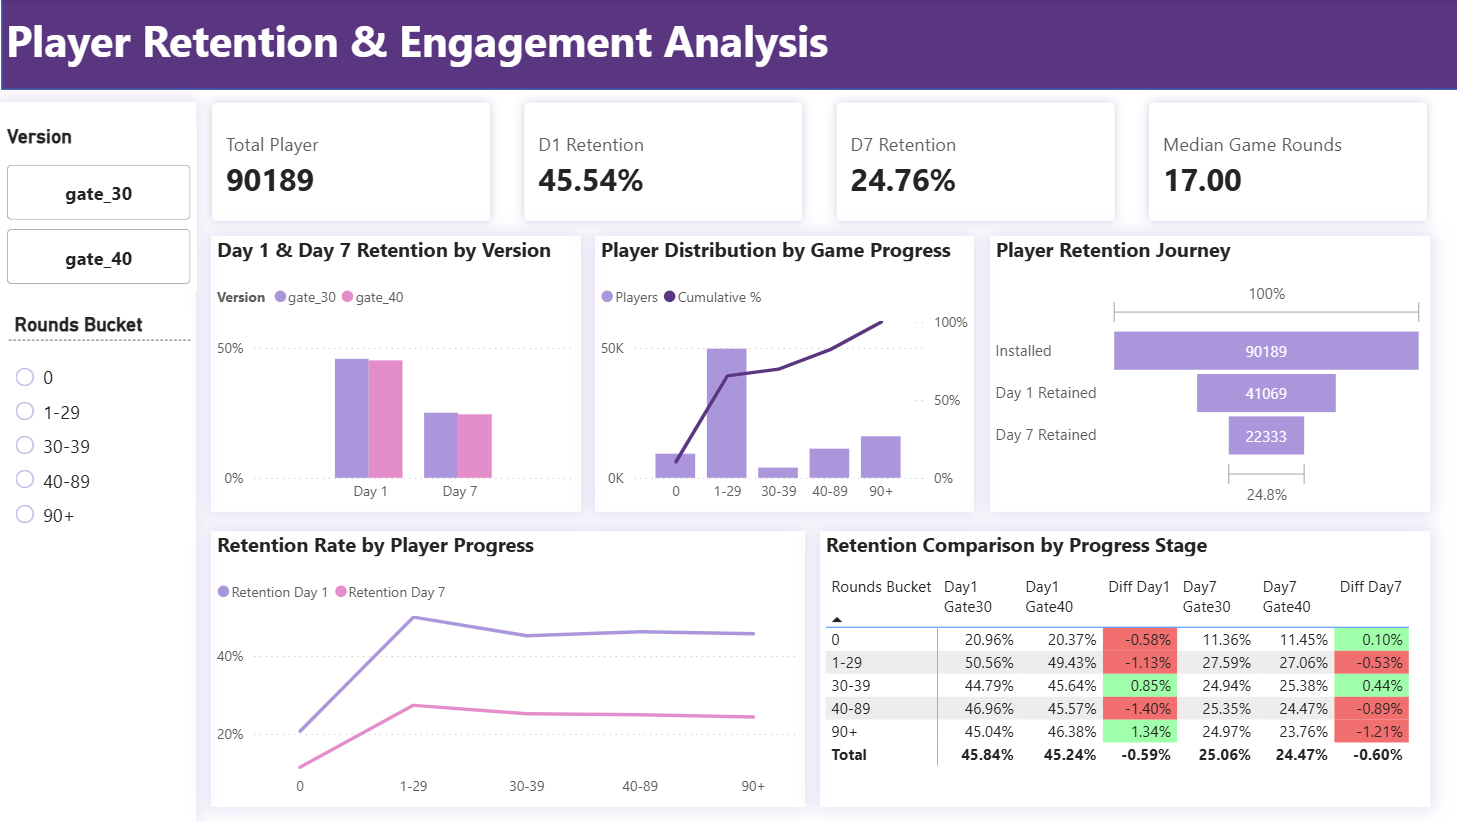

The dashboard page shown, as its layout file describes it:
{"tool":"powerbi","page":{"name":"Page 1","canvas":[1280,720],"ordinal":0},"visuals":[{"type":"shape","box":[9.6,0,1270.7,80],"z":0},{"type":"shape","box":[9.2,90.6,170.7,629],"z":1000},{"type":"textbox","box":[9.2,6.6,1271.1,65.7],"z":2000},{"type":"cardVisual","fields":{"Data":["CountNonNull(gaming_data.userid)","gaming_data.M_Retention Day 1","gaming_data.M_Retention Day 7","Median(gaming_data.sum_gamerounds)"]},"box":[165.9,63.5,1114.4,159.4],"z":3000},{"type":"clusteredColumnChart","title":"Day 1 & Day 7 Retention by Version","fields":{"Category":["Retention Metric.Metric"],"Y":["Retention Metric.Retention Rate"],"Series":["gaming_data.version"]},"box":[193.1,207.3,322.7,241],"z":4000},{"type":"advancedSlicerVisual","fields":{"Values":["gaming_data.version"]},"box":[10.1,109.6,170.1,144.9],"z":5000},{"type":"pivotTable","title":"Retention Comparison by Progress Stage","fields":{"Rows":["gaming_data.Rounds Bucket"],"Values":["gaming_data.Day1 Gate30","gaming_data.Day1 Gate40","gaming_data.Diff Day1","gaming_data.Day7 Gate30","gaming_data.Day7 Gate40","gaming_data.Diff Day7"]},"box":[723.1,463.9,531.3,241],"z":6000},{"type":"lineChart","title":"Retention Rate by Player Progress","fields":{"Category":["gaming_data.Rounds Bucket"],"Y":["gaming_data.M_Retention Day 1","gaming_data.M_Retention Day 7"]},"box":[193.1,463.9,517,241],"z":7000},{"type":"lineClusteredColumnComboChart","title":"Player Distribution by Game Progress","fields":{"Category":["gaming_data.Rounds Bucket"],"Y":["gaming_data.Players"],"Y2":["gaming_data.Cumulative %"]},"box":[527.4,207.3,330.4,241],"z":8000},{"type":"listSlicer","fields":{"Values":["gaming_data.Rounds Bucket"]},"box":[16.4,274.7,158.8,201.6],"z":9000},{"type":"funnel","title":"Player Retention Journey","fields":{"Y":["gaming_data.Players","Sum(gaming_data.retention_1)","Sum(gaming_data.retention_7)"]},"box":[870.8,207.3,383.6,241],"z":11000}]}

Visuals, with their boxes in screenshot pixels (x1, y1, x2, y2), scaled from the page's 1280x720 canvas onto the 1457x822 screenshot:
shape: locate(11, 0, 1456, 91)
shape: locate(10, 103, 205, 821)
textbox: locate(10, 8, 1456, 83)
cardVisual - CountNonNull(gaming_data.userid) x gaming_data.M_Retention Day 1: locate(189, 72, 1456, 254)
"Day 1 & Day 7 Retention by Version" clusteredColumnChart: locate(220, 237, 587, 512)
advancedSlicerVisual - gaming_data.version: locate(11, 125, 205, 291)
"Retention Comparison by Progress Stage" pivotTable: locate(823, 530, 1428, 805)
"Retention Rate by Player Progress" lineChart: locate(220, 530, 808, 805)
"Player Distribution by Game Progress" lineClusteredColumnComboChart: locate(600, 237, 976, 512)
listSlicer - gaming_data.Rounds Bucket: locate(19, 314, 199, 544)
"Player Retention Journey" funnel: locate(991, 237, 1428, 512)
